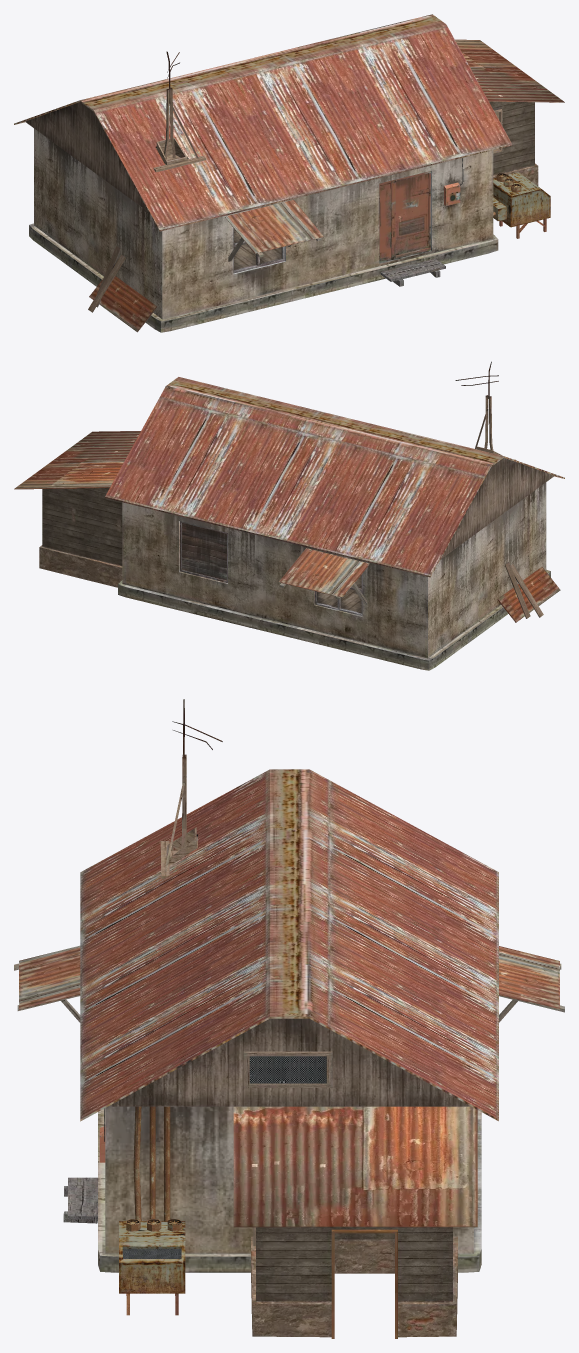
File: low__house__building__apocalypse__dirty.glb
3 views of the same model, one above another, from view 1: azimuth 30°, elevation 25°; view 2: azimuth 150°, elevation 25°; view 3: azimuth 270°, elevation 25° (orthographic). The views are drawn at different scales.
Visible parts, largest first — view 1: Cube.001_Roof_0, Cube_Wall_0, Cube.002_Equipment_0, Cube.024_Laggue_0, Cylinder.001_Generator_0, Cube.010_cell_Glass_0; view 2: Cube.001_Roof_0, Cube_Wall_0, Cube.024_Laggue_0, Cube.002_Equipment_0, Cube.010_cell_Glass_0; view 3: Cube.001_Roof_0, Cube.024_Laggue_0, Cube_Wall_0, Cube.002_Equipment_0, Cylinder.001_Generator_0.
Part boxes in pixels (bbox=[...]): Cube.001_Roof_0: bbox=[14, 14, 512, 231]; Cube_Wall_0: bbox=[29, 128, 498, 332]; Cube.002_Equipment_0: bbox=[88, 51, 463, 332]; Cube.024_Laggue_0: bbox=[455, 39, 564, 185]; Cylinder.001_Generator_0: bbox=[493, 172, 550, 238]; Cube.010_cell_Glass_0: bbox=[234, 229, 282, 270]; Cube.001_Roof_0: bbox=[105, 377, 564, 577]; Cube_Wall_0: bbox=[118, 482, 550, 670]; Cube.024_Laggue_0: bbox=[14, 431, 140, 587]; Cube.002_Equipment_0: bbox=[180, 361, 560, 622]; Cube.010_cell_Glass_0: bbox=[317, 575, 361, 613]; Cube.001_Roof_0: bbox=[80, 769, 498, 1121]; Cube.024_Laggue_0: bbox=[233, 1106, 477, 1338]; Cube_Wall_0: bbox=[98, 1106, 481, 1272]; Cube.002_Equipment_0: bbox=[14, 699, 564, 1223]; Cylinder.001_Generator_0: bbox=[119, 1106, 185, 1315].
Bounding box in the file's own units: 14.43 × 7.26 × 9.96.
Materials: 7 (6 with a texture image).
